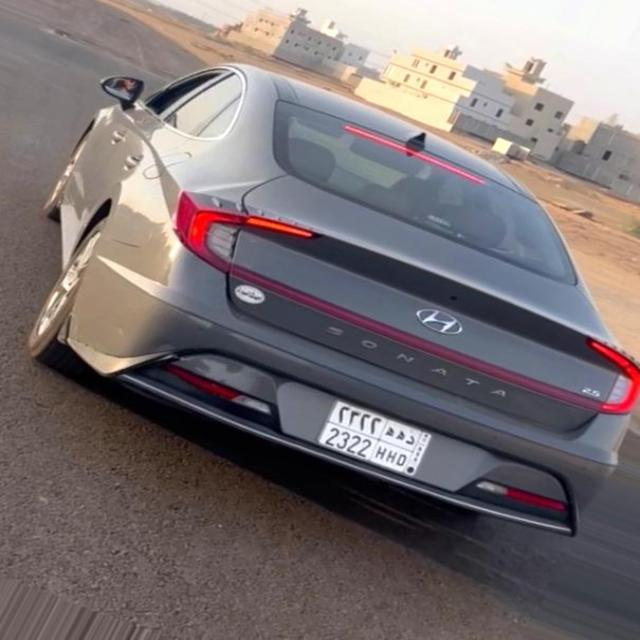Car-plate: (311, 390, 446, 489)
